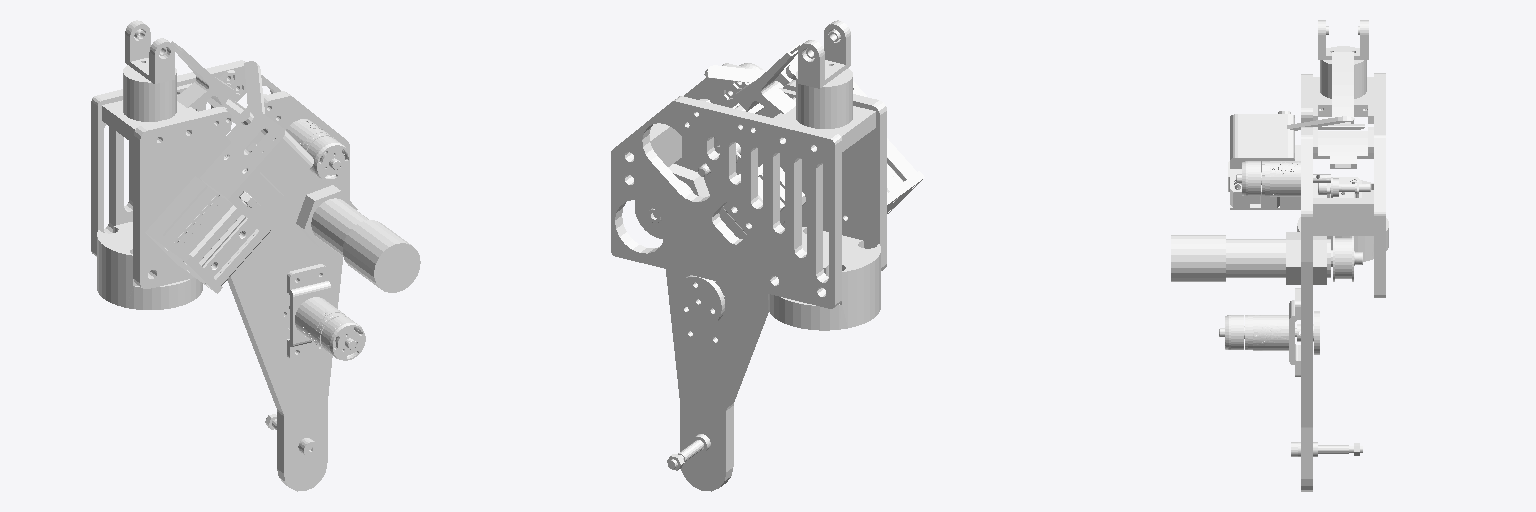
URDF robot description (120degree_model):
<?xml version="1.0" encoding="utf-8"?>
<!-- This URDF was automatically created by SolidWorks to URDF Exporter! Originally created by Stephen Brawner (brawner@gmail.com) 
     Commit Version: 1.6.0-4-g7f85cfe  Build Version: 1.6.7995.38578
     For more information, please see http://wiki.ros.org/sw_urdf_exporter -->
<robot
  name="120degree_model">
  <link
    name="base_link">
    <inertial>
      <origin
        xyz="-1.66558744151121E-17 -0.0104159414126801 0.0200047656957359"
        rpy="0 0 0" />
      <mass
        value="0.58117137694643" />
      <inertia
        ixx="0.00187979355618849"
        ixy="2.92938722267831E-18"
        ixz="-8.66486024079702E-19"
        iyy="0.00235801610989525"
        iyz="0.000548852531474529"
        izz="0.00339625329260278" />
    </inertial>
    <visual>
      <origin
        xyz="0 0 0"
        rpy="0 0 0" />
      <geometry>
        <mesh
          filename="package://120degree_model/meshes/base_link.STL" />
      </geometry>
      <material
        name="">
        <color
          rgba="1 1 1 1" />
      </material>
    </visual>
    <collision>
      <origin
        xyz="0 0 0"
        rpy="0 0 0" />
      <geometry>
        <mesh
          filename="package://120degree_model/meshes/base_link.STL" />
      </geometry>
    </collision>
  </link>
</robot>

--- Facts derived from the render (not from the file) ---
3 views of the same robot in one strip: view 1: azimuth 30°, elevation 25°; view 2: azimuth 150°, elevation 25°; view 3: azimuth 270°, elevation 25° (orthographic).
Robot: 120degree_model — 1 links, 0 joints (none); root link base_link; default pose: all joints at 0.
Visible links, largest first — view 1: base_link; view 2: base_link; view 3: base_link.
Boxes of the visible links, x1,y1,x2,y2 form: base_link: (91,20,420,491); base_link: (611,20,924,491); base_link: (1171,20,1388,491).
Bounding box of the posed robot: 0.1516 × 0.1493 × 0.3104 m (x, y, z).
1 mesh visuals loaded from 1 distinct referenced files (1 binary STL).
